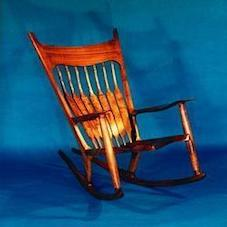chair: (12, 8, 214, 209)
